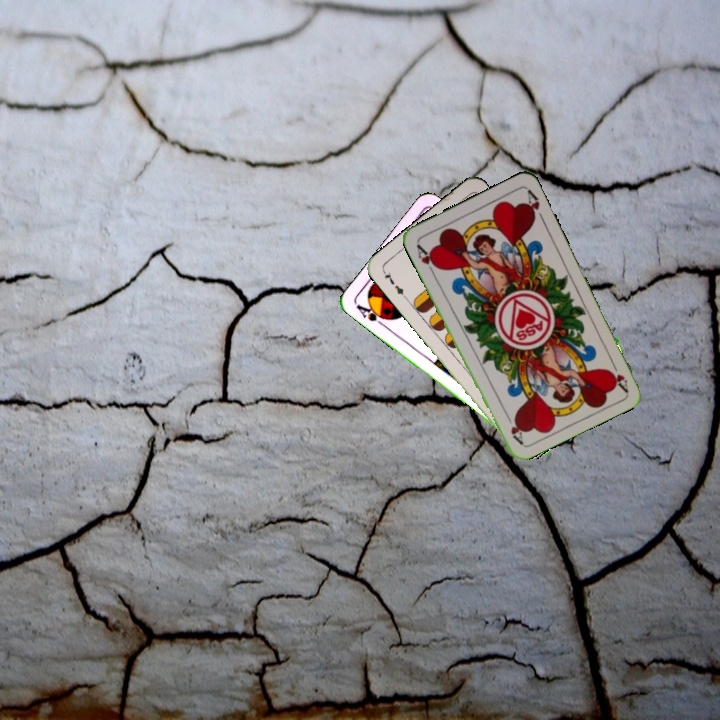E7: (379, 267, 409, 301)
HA: (412, 240, 441, 277), (604, 355, 631, 394)
SA: (352, 300, 391, 329)
